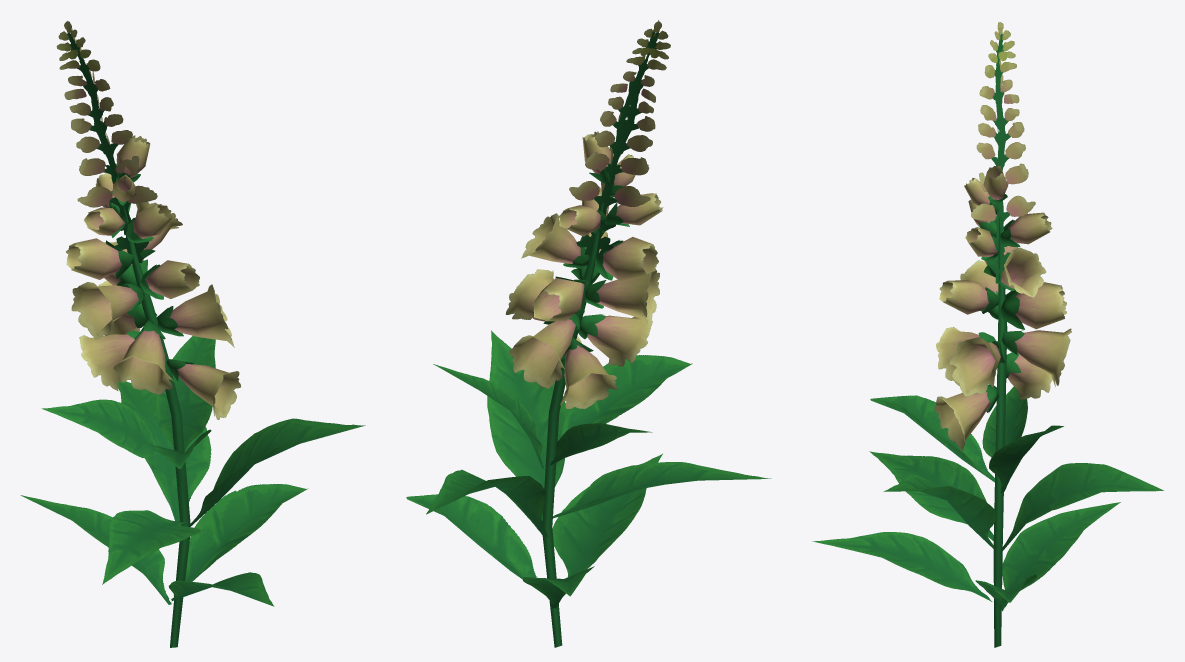
Rendered from MSH_FWOF_Flower_Large_C_03.fbx.
3 views of the same model, side by side, from view 1: azimuth 30°, elevation 25°; view 2: azimuth 150°, elevation 25°; view 3: azimuth 270°, elevation 25° (orthographic). The views are drawn at different scales.
Parts seen in each view (by area): view 1: MSH_FWOF_Flower_Large_C_03; view 2: MSH_FWOF_Flower_Large_C_03; view 3: MSH_FWOF_Flower_Large_C_03.
Part boxes in pixels (left/top/right/bottom): MSH_FWOF_Flower_Large_C_03: left=20, top=21, right=365, bottom=647; MSH_FWOF_Flower_Large_C_03: left=406, top=20, right=771, bottom=647; MSH_FWOF_Flower_Large_C_03: left=812, top=22, right=1163, bottom=647.
Bounding box in the file's own units: 0.5064 × 1.08 × 0.6086.
